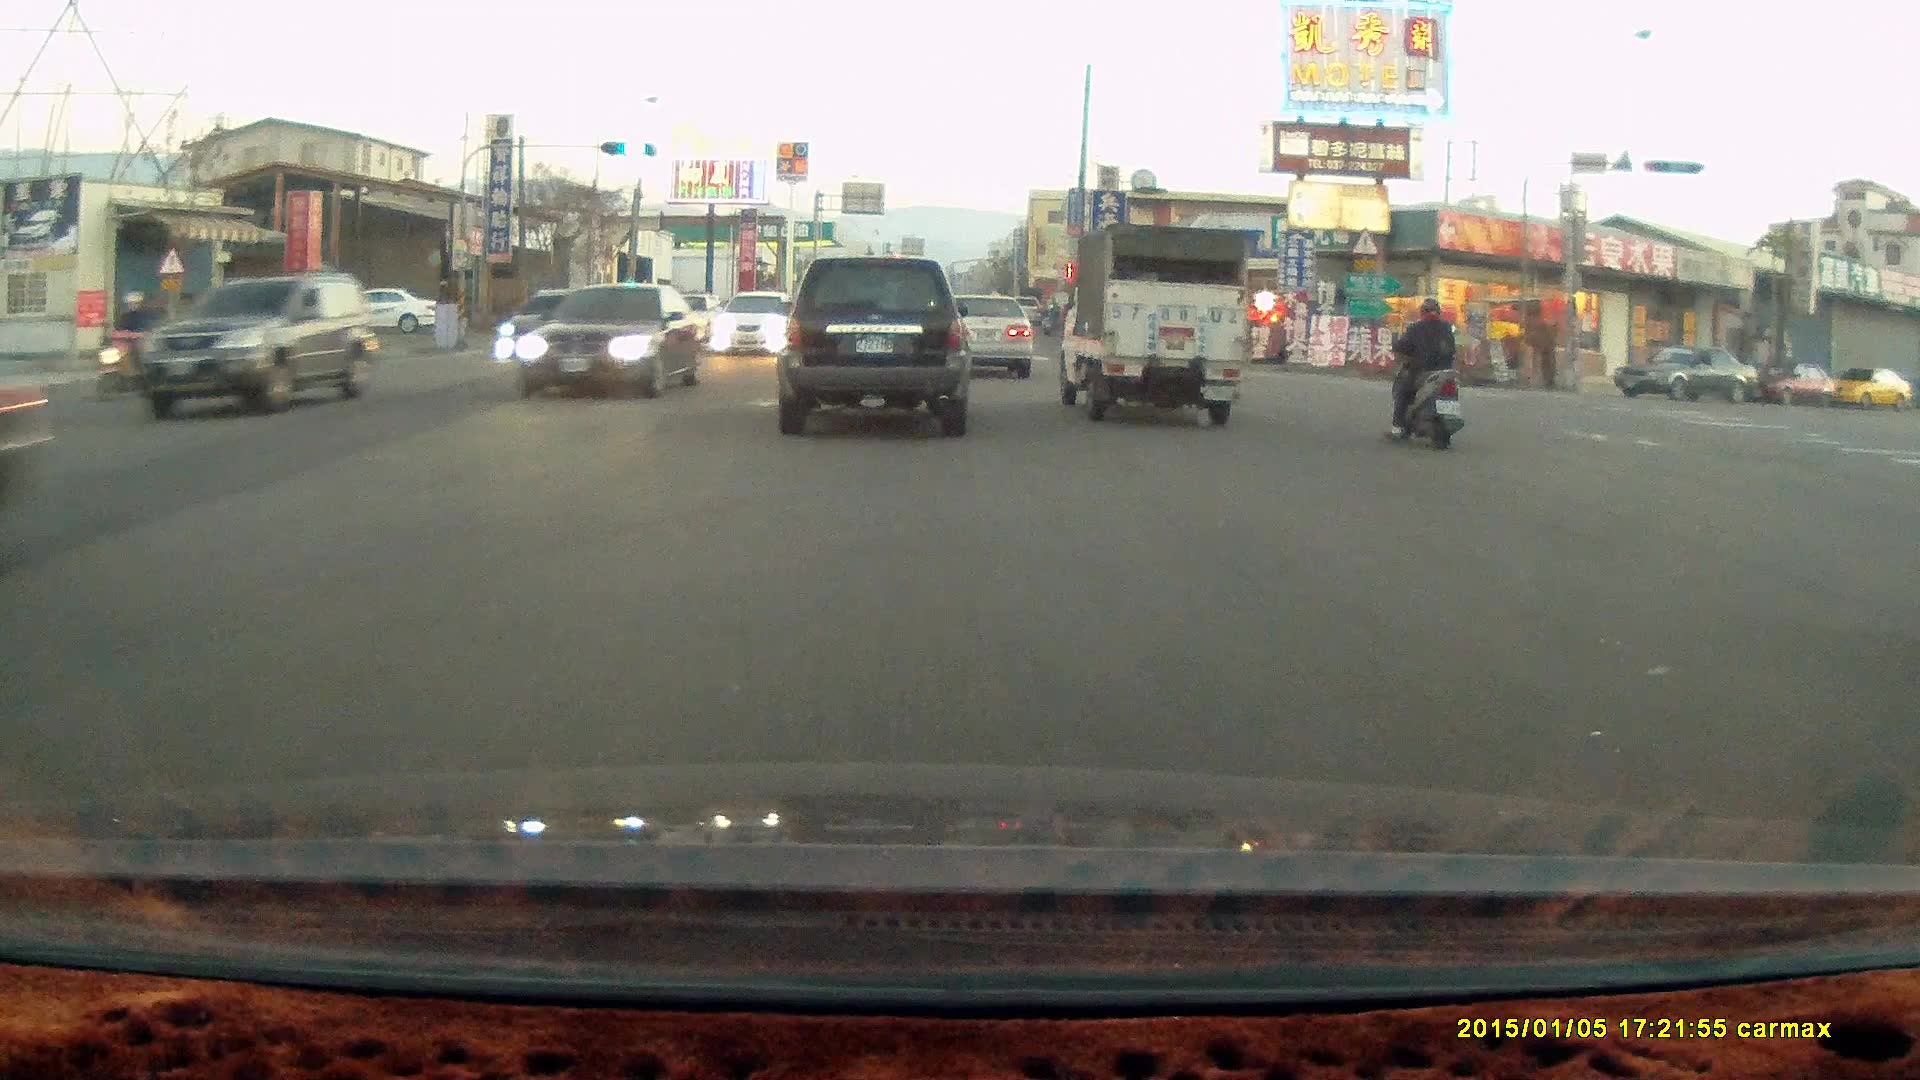rider: (1383, 293, 1464, 446), (86, 287, 177, 396)
vehicle: (1051, 219, 1251, 424), (119, 276, 382, 414), (775, 253, 971, 437), (512, 283, 709, 399), (925, 289, 1033, 379), (1611, 345, 1762, 405), (937, 294, 1037, 381), (499, 280, 606, 356), (710, 293, 795, 360), (325, 286, 442, 334), (1748, 361, 1840, 407), (1825, 367, 1913, 410)
